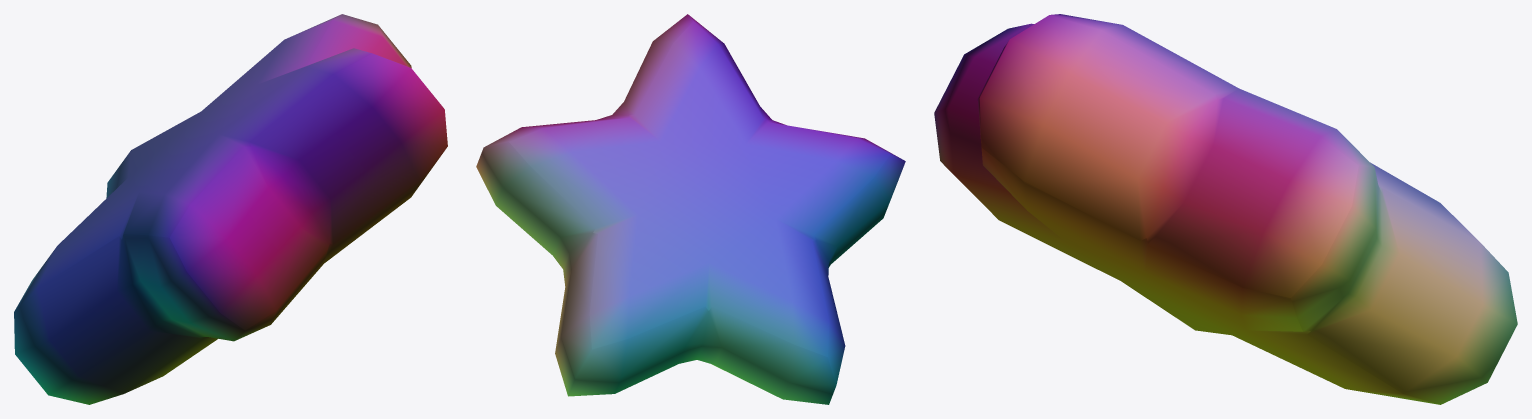
Rendered from SM_FX_StunStar.fbx.
3 renders of one model, left to right at view 1: azimuth 30°, elevation 25°; view 2: azimuth 150°, elevation 25°; view 3: azimuth 270°, elevation 25°, orthographic. The views are drawn at different scales.
Visible parts, largest first — view 1: SM_FX_StunStar; view 2: SM_FX_StunStar; view 3: SM_FX_StunStar.
Part boxes in pixels (x1,y1,x2,y2): SM_FX_StunStar: (14, 14, 447, 404); SM_FX_StunStar: (476, 14, 905, 404); SM_FX_StunStar: (934, 14, 1517, 404).
Size of the model in its own units: 0.1695 by 0.1376 by 0.1682.
